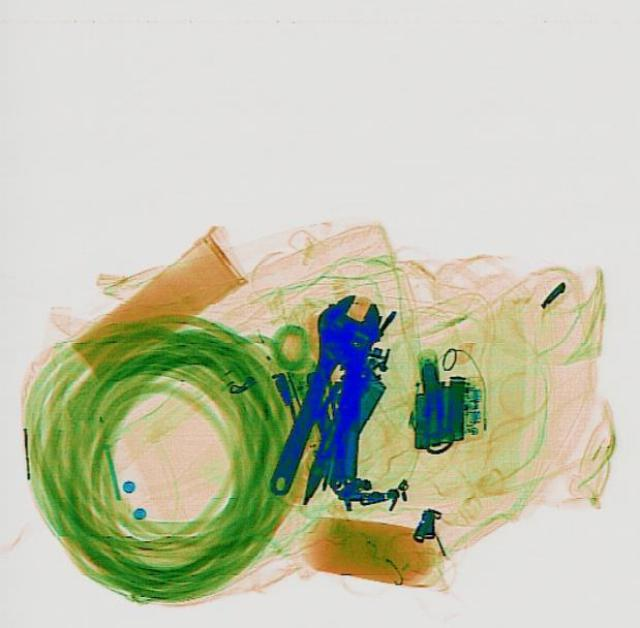Wrench: (250, 285, 376, 498), (314, 292, 380, 498)
